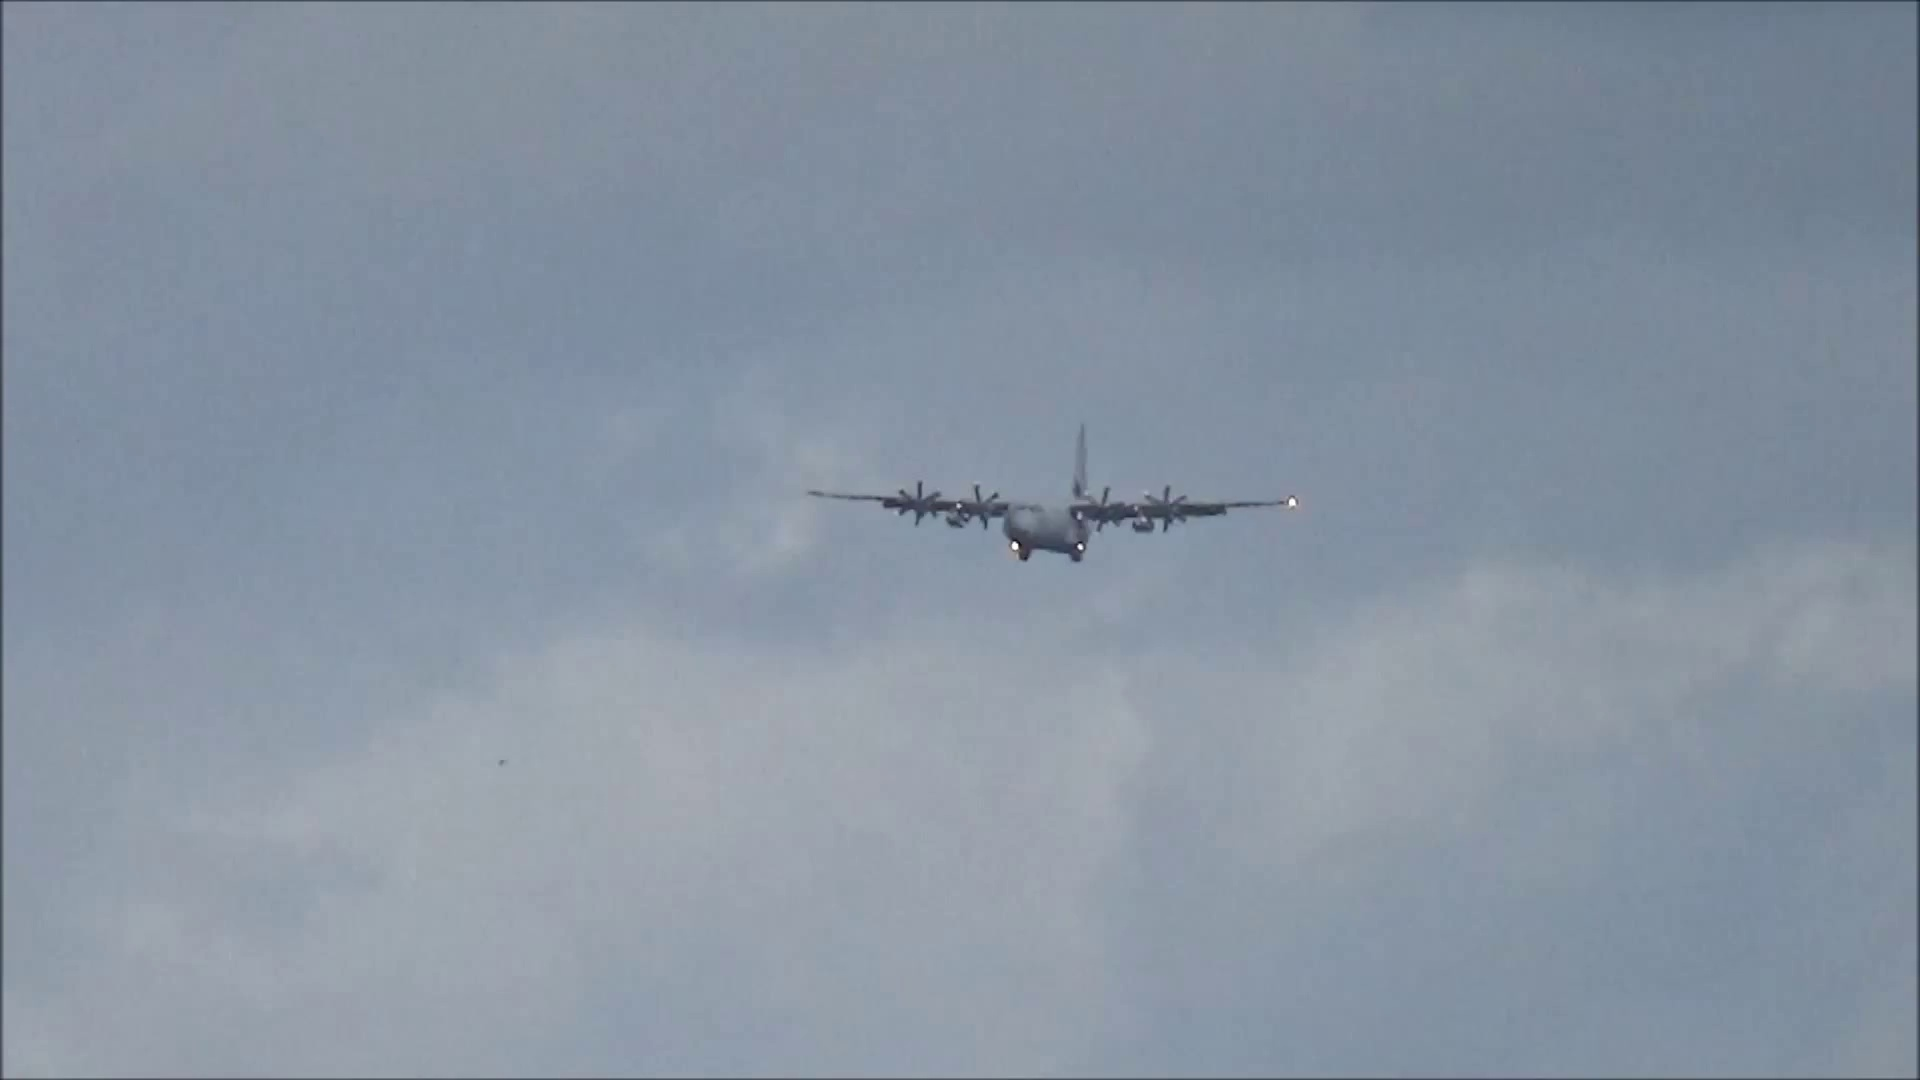Airplane: (811, 430, 1304, 568)
